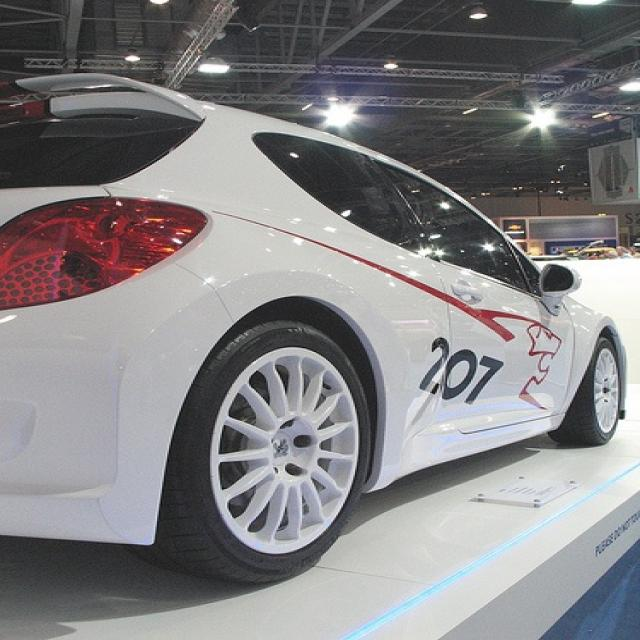car: (0, 73, 628, 585)
